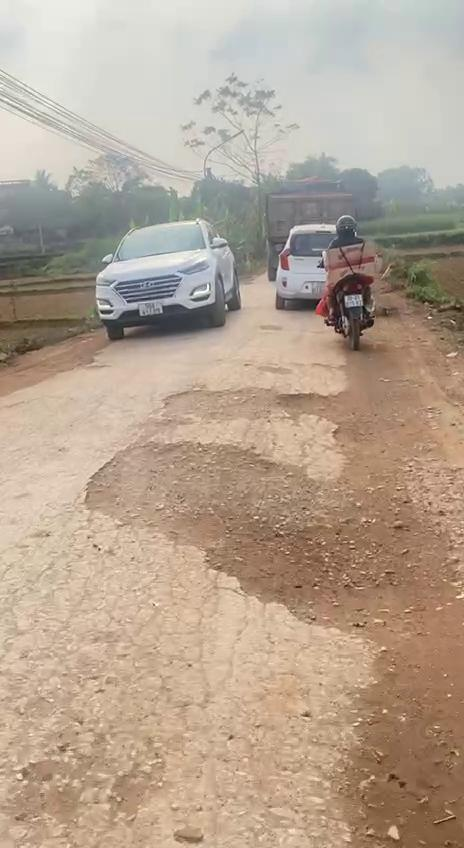pothole: (77, 442, 418, 640), (328, 655, 464, 848), (0, 734, 180, 848), (149, 382, 360, 448)
